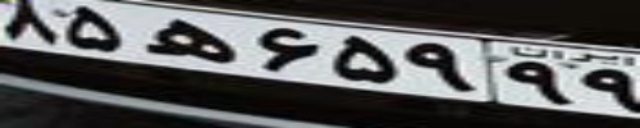5: (330, 34, 395, 84), (63, 4, 124, 52)
6: (253, 26, 320, 74)
8: (3, 0, 57, 46)
9: (404, 40, 476, 95), (501, 60, 568, 105), (578, 69, 637, 113)
vav: (144, 17, 235, 65)
